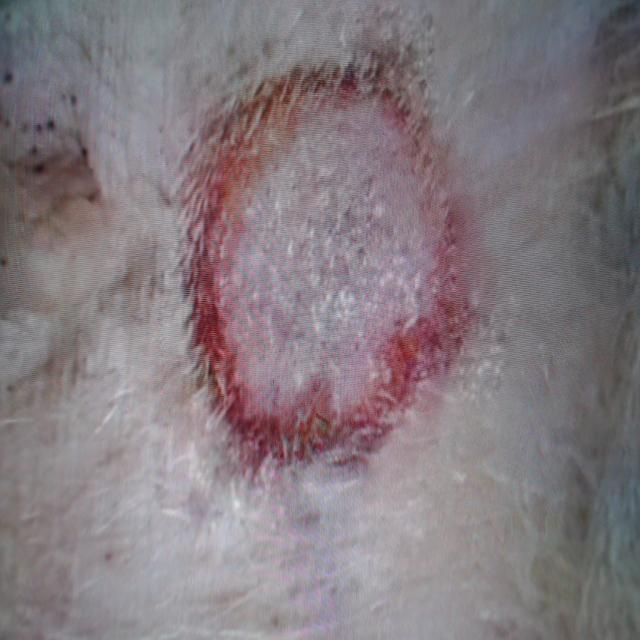ringworm: (185, 48, 487, 487)
